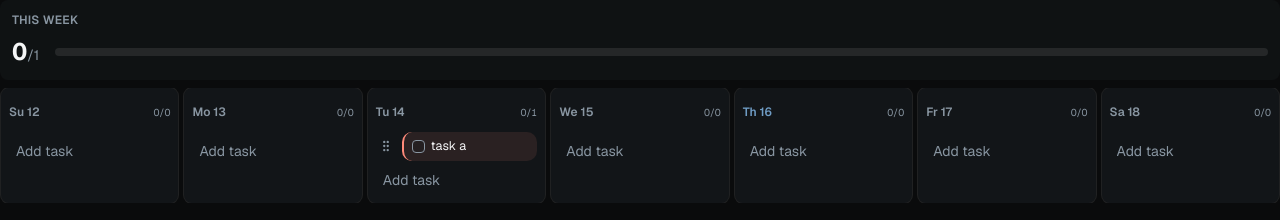
Test: WeeklyView › reschedules a task dragged from one day into another, updating its scope and moving it in the UI
The image size is (1280, 220).
expect the button "task a" is shown: met, box left=431, top=138, right=529, bottom=155
Press the mouse on the button named "Reorder task a" at (386, 146), box left=376, top=132, right=396, bottom=161
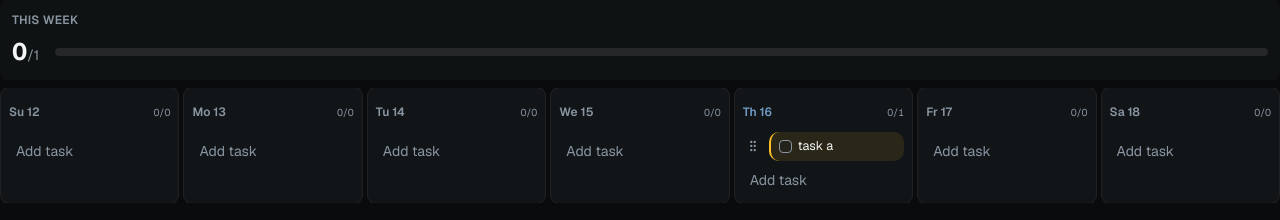
expect the element with test id "day-column-2026-07-16" shows "task a": met, box left=798, top=138, right=896, bottom=155
expect the element with test id "day-column-2026-07-14" no longer shows "task a": met
